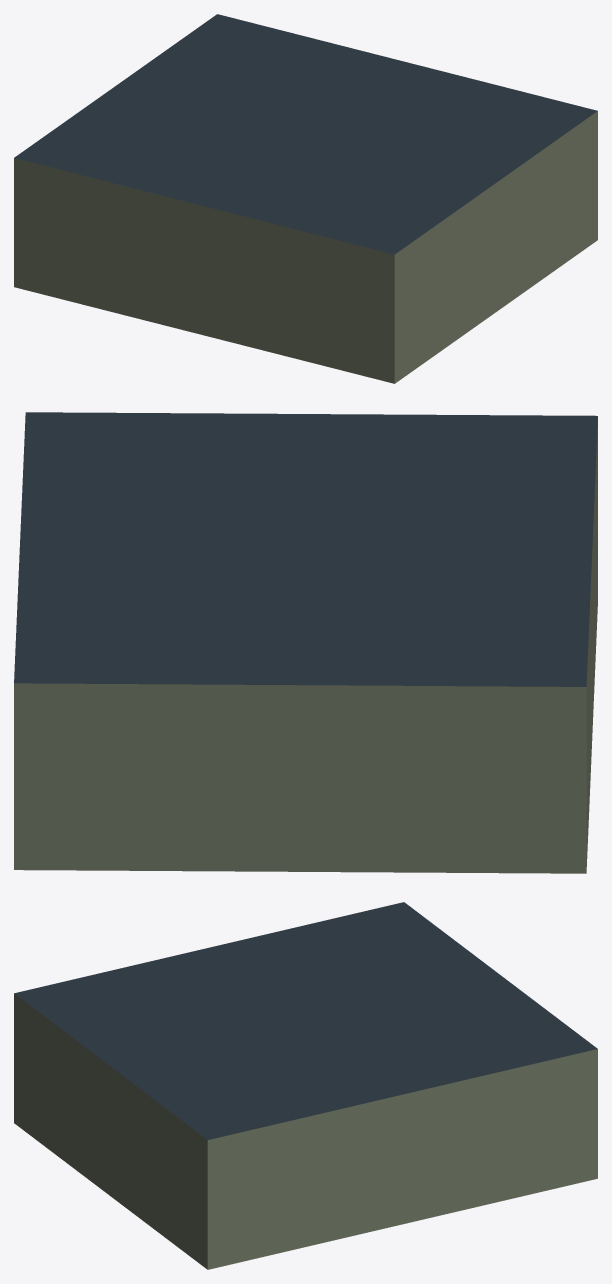
File: nyc-1080571-0.glb
The picture shows the model from 3 angles, top to bottom: view 1: azimuth 30°, elevation 25°; view 2: azimuth 150°, elevation 25°; view 3: azimuth 270°, elevation 25°; orthographic projection. The views are drawn at different scales.
Parts seen in each view (by area): view 1: nyc-1080571-0; view 2: nyc-1080571-0; view 3: nyc-1080571-0.
Boxes of the visible parts, box(x1,y1,x2,y2) form: nyc-1080571-0: box(14, 14, 597, 383); nyc-1080571-0: box(14, 412, 597, 873); nyc-1080571-0: box(14, 902, 597, 1269).
Size of the model in its own units: 37.19 by 9.45 by 38.54.
